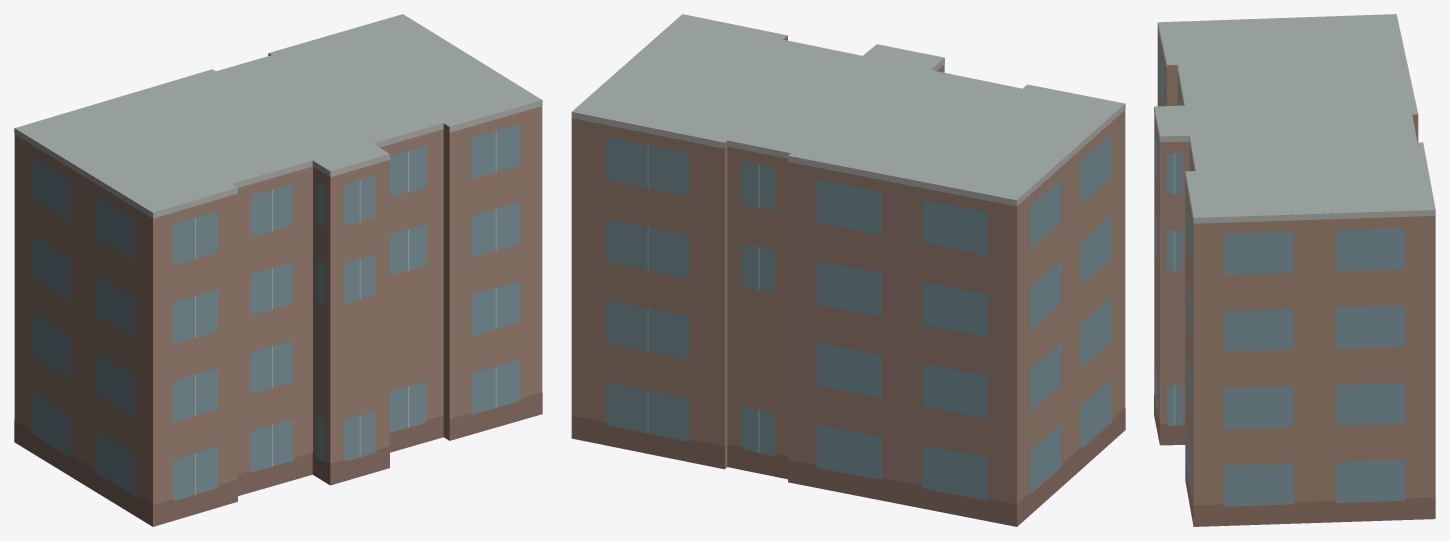
File: survey-upis-32735909.glb
3 views of the same model, side by side, from view 1: azimuth 30°, elevation 25°; view 2: azimuth 150°, elevation 25°; view 3: azimuth 270°, elevation 25° (orthographic). The views are drawn at different scales.
Visible parts, largest first — view 1: survey-upis-32735909.tmp; view 2: survey-upis-32735909.tmp; view 3: survey-upis-32735909.tmp.
Boxes of the visible parts, bbox=[...] form: survey-upis-32735909.tmp: bbox=[14, 14, 542, 526]; survey-upis-32735909.tmp: bbox=[571, 14, 1125, 526]; survey-upis-32735909.tmp: bbox=[1154, 14, 1435, 526].
Bounding box in the file's own units: 18.41 × 13 × 10.75.
